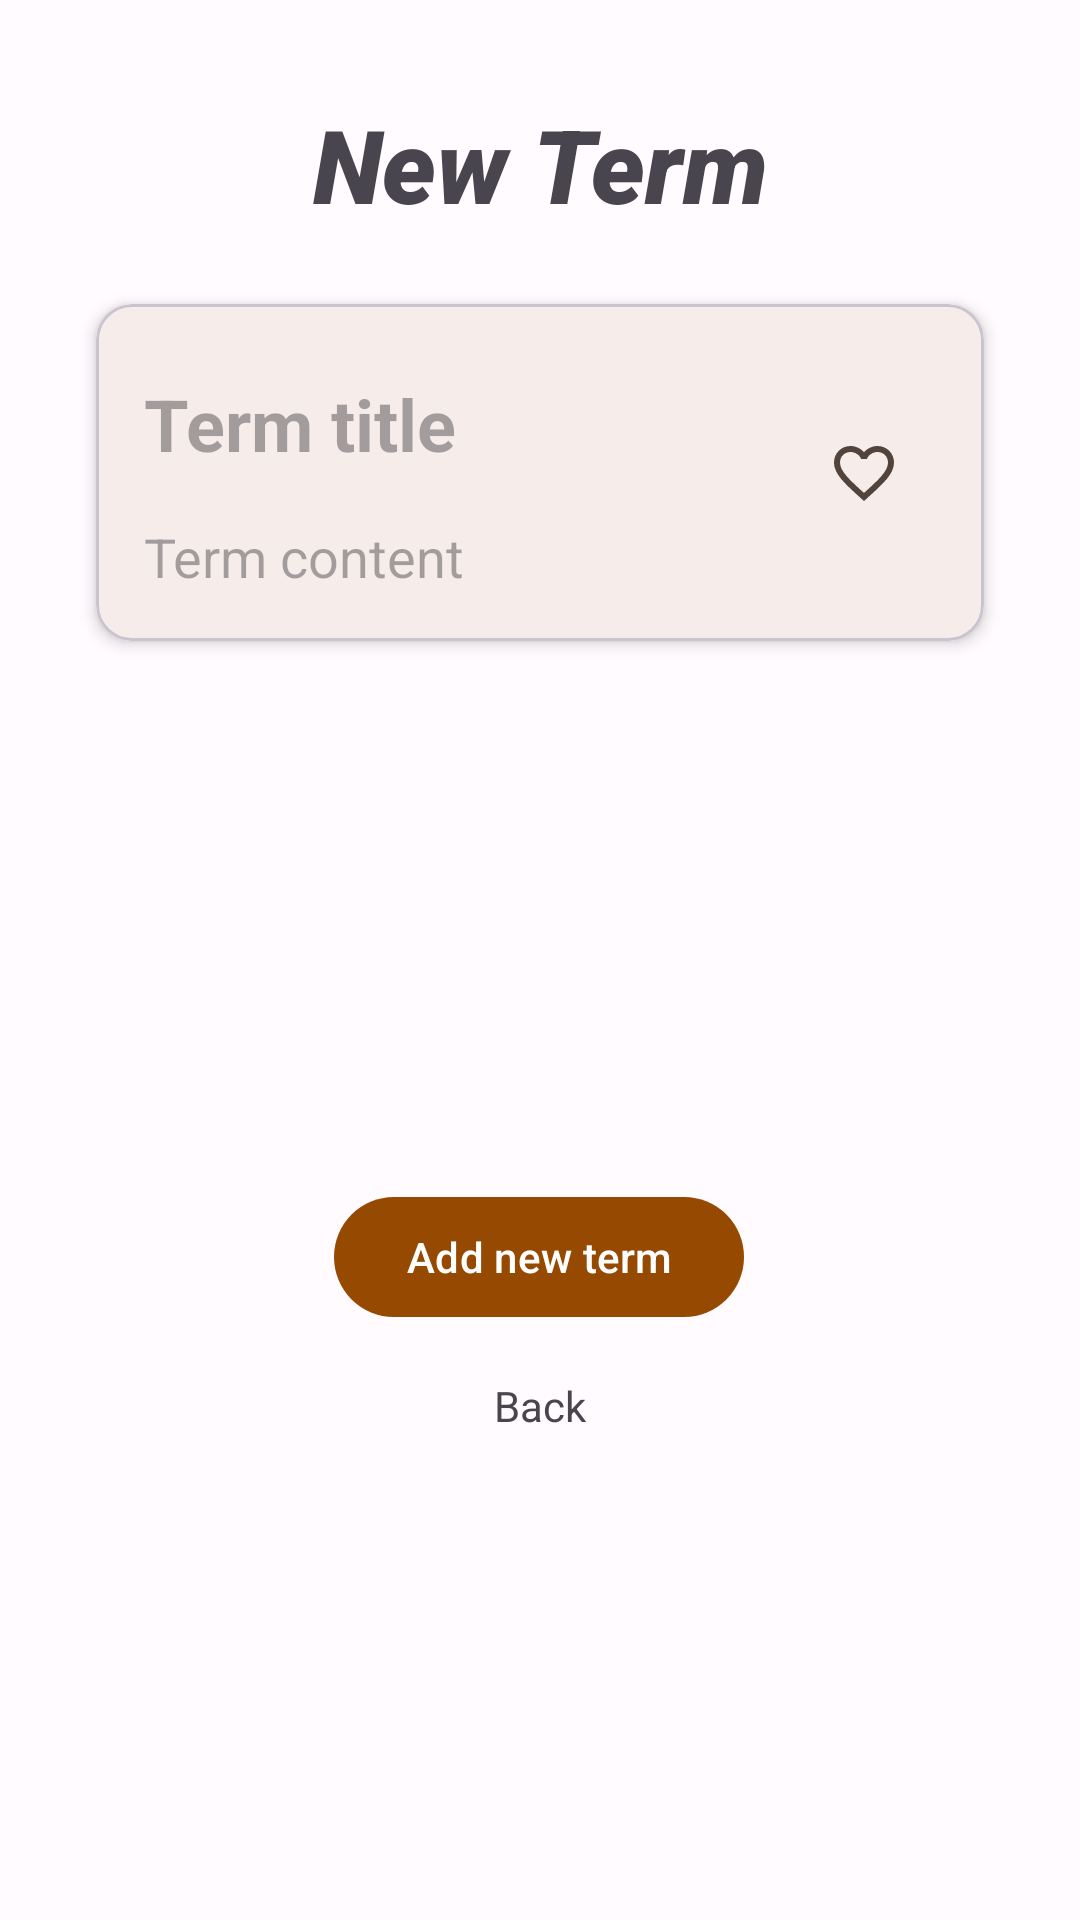

Icon bounding boxes for this 1080w x 1920h phone screenshot, format (x1=x1, y1=y1, x2=x2, y2=y2):
checkbox favorite: (x1=834, y1=446, x2=894, y2=501)
